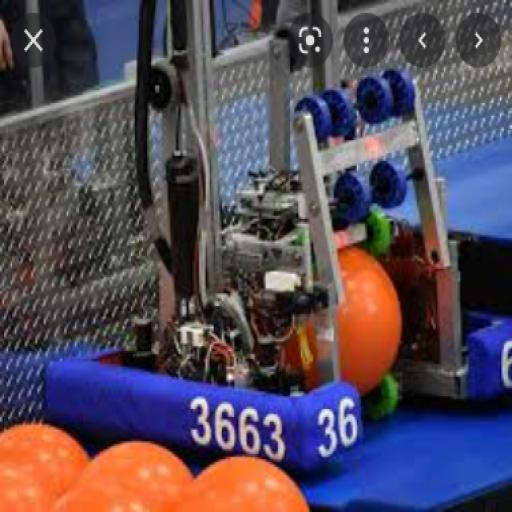robot: (49, 3, 512, 467)
